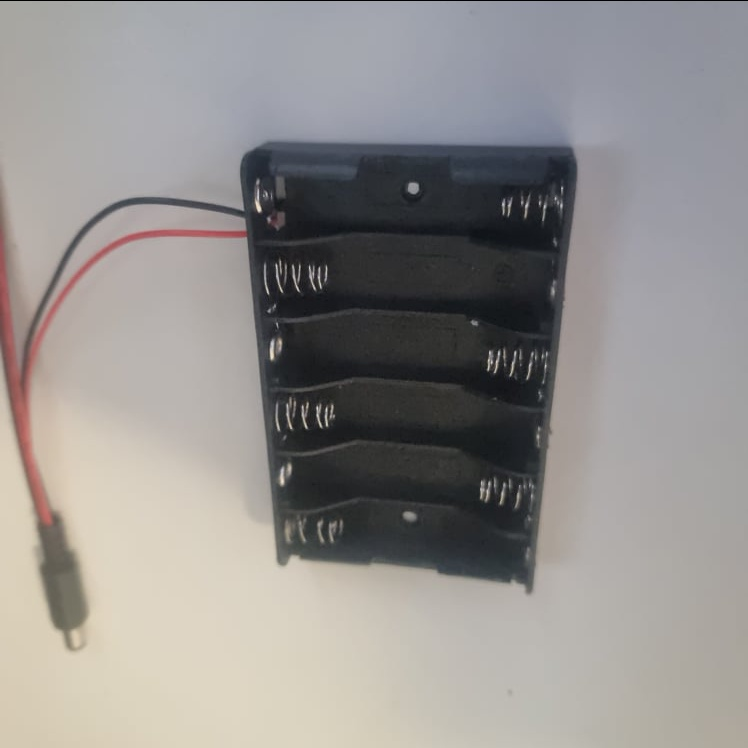BATTERY BOX: (239, 142, 580, 594)
